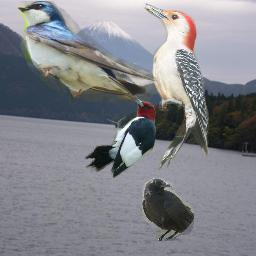Crow: (142, 178, 194, 241)
Swallow: (17, 1, 159, 107)
Woodpecker: (141, 3, 209, 171), (84, 96, 156, 178)
